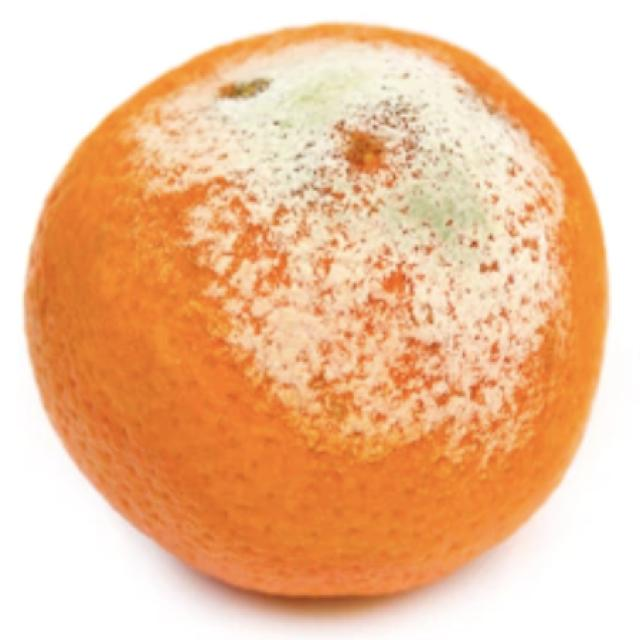sedikit_busuk: (27, 18, 608, 610)
